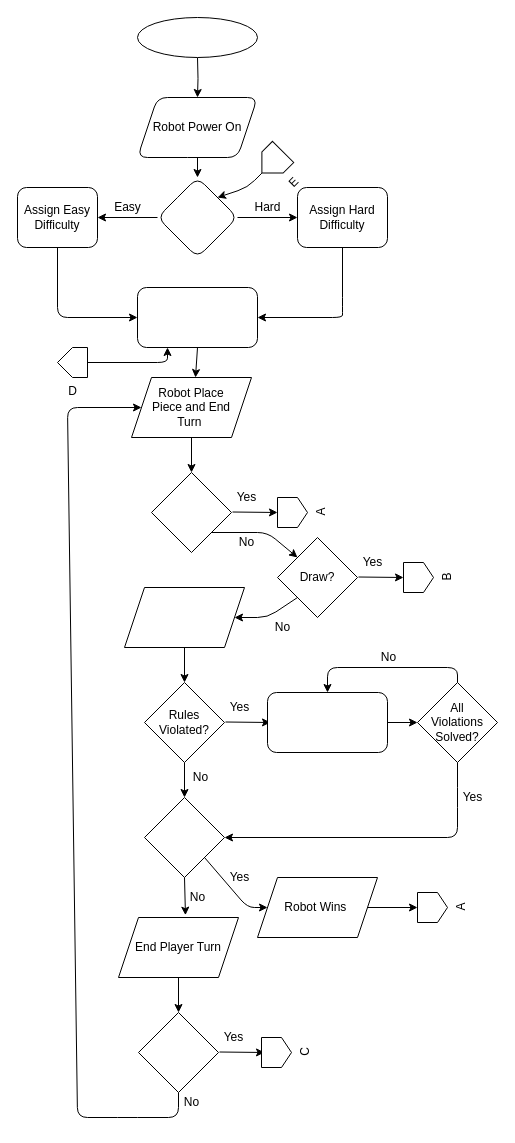
The diagram is 515 pixels wide and 1143 high, and some of its shapes have lost their labels. Here are the shapes that lost their labels. From the top down, the centre of each, then its label:
At pixel 197 37: "Start".
At pixel 197 217: "Choose Difficulty?".
At pixel 197 317: "Game Start".
At pixel 191 512: "Robot Wins?".
At pixel 184 617: "Player Place Piece".
At pixel 327 722: "Wait For Player To Resolve Violation(s)".
At pixel 184 837: "Timer Expired?".
At pixel 178 1052: "Player Wins?".
